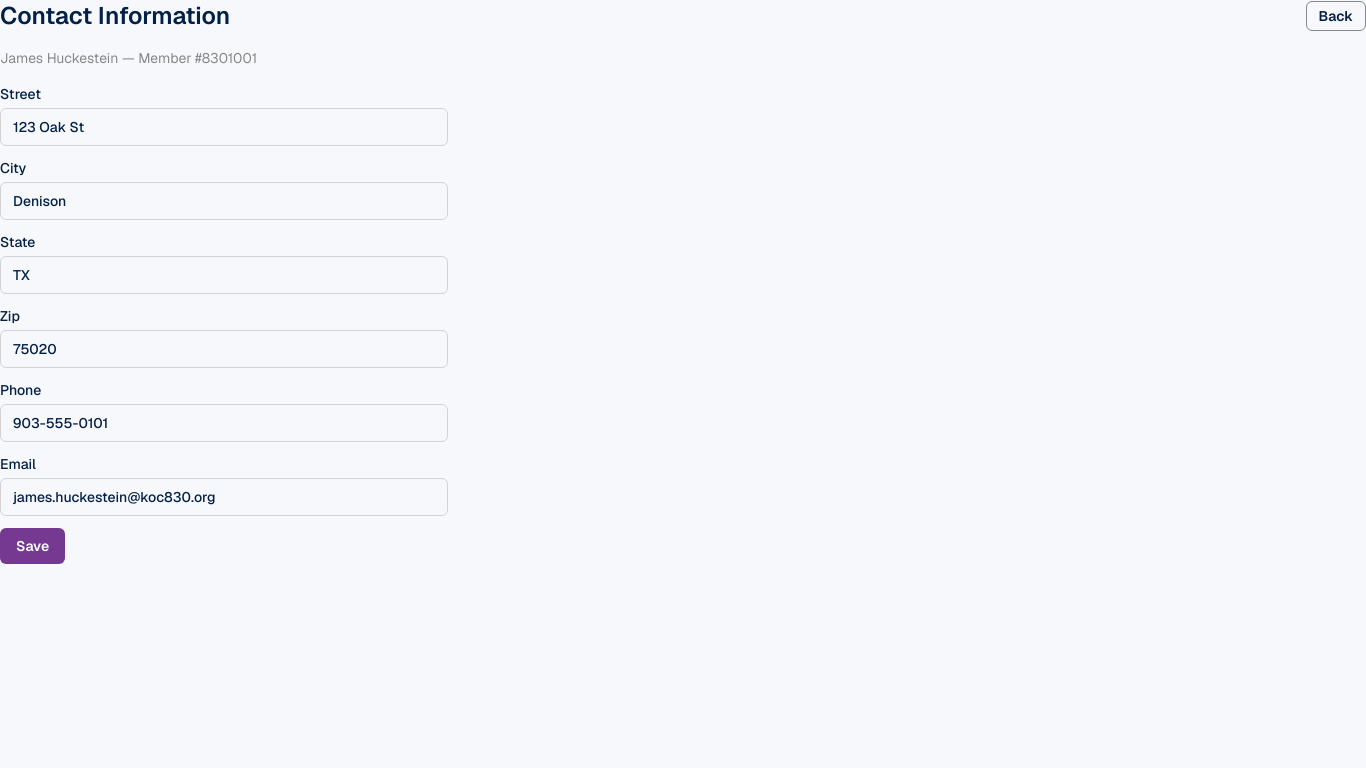
Test: ContactInfoForm › shows success modal after saving
The image size is (1366, 768).
Click the button "Save".
click(33, 546)  # box [0,528,65,564]
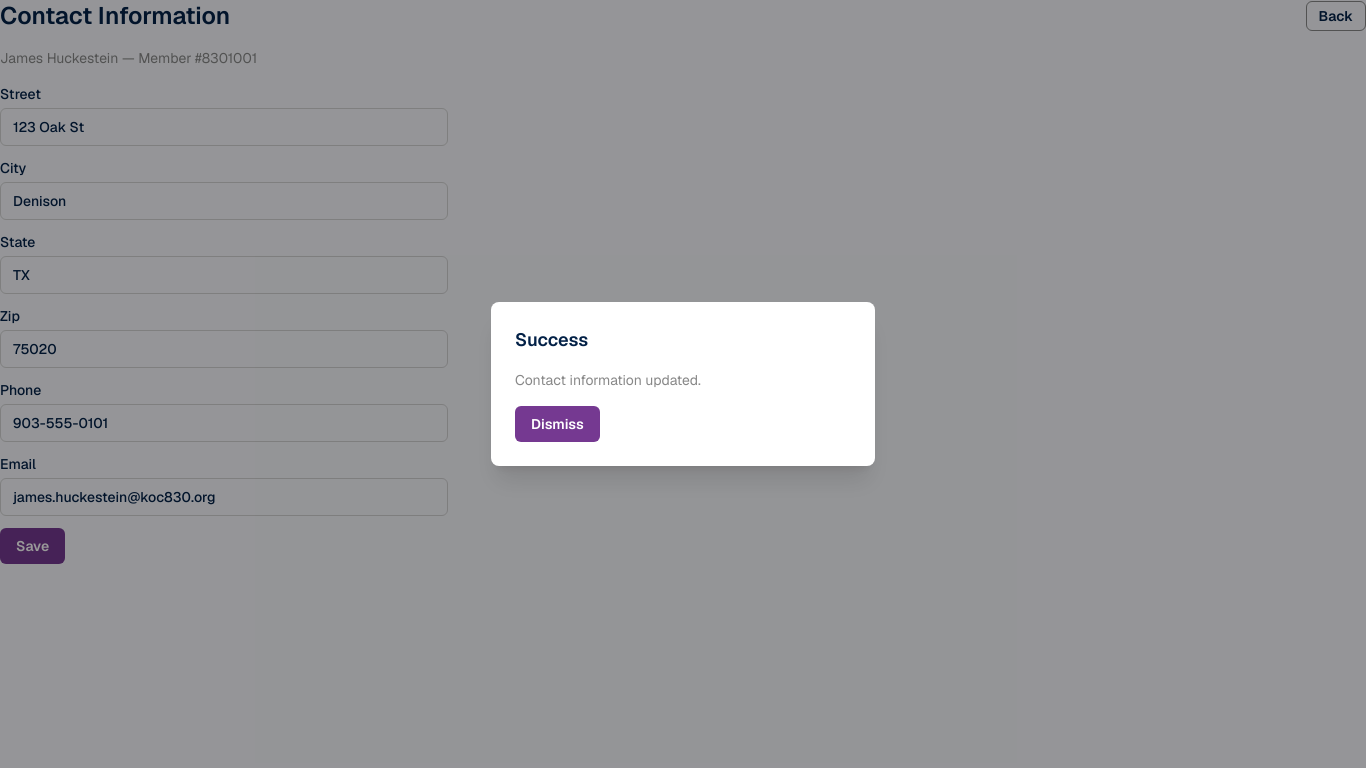
Now the heading "Success" is shown, box [515,328,588,351]
Now the text "Contact information updated." is shown, box [515,371,701,389]
